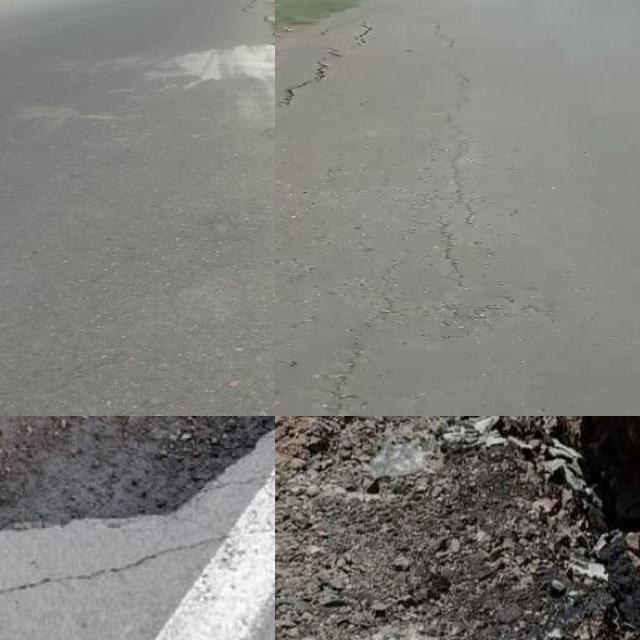Pinggir: (0, 416, 275, 553), (470, 416, 640, 612), (275, 0, 405, 135)
